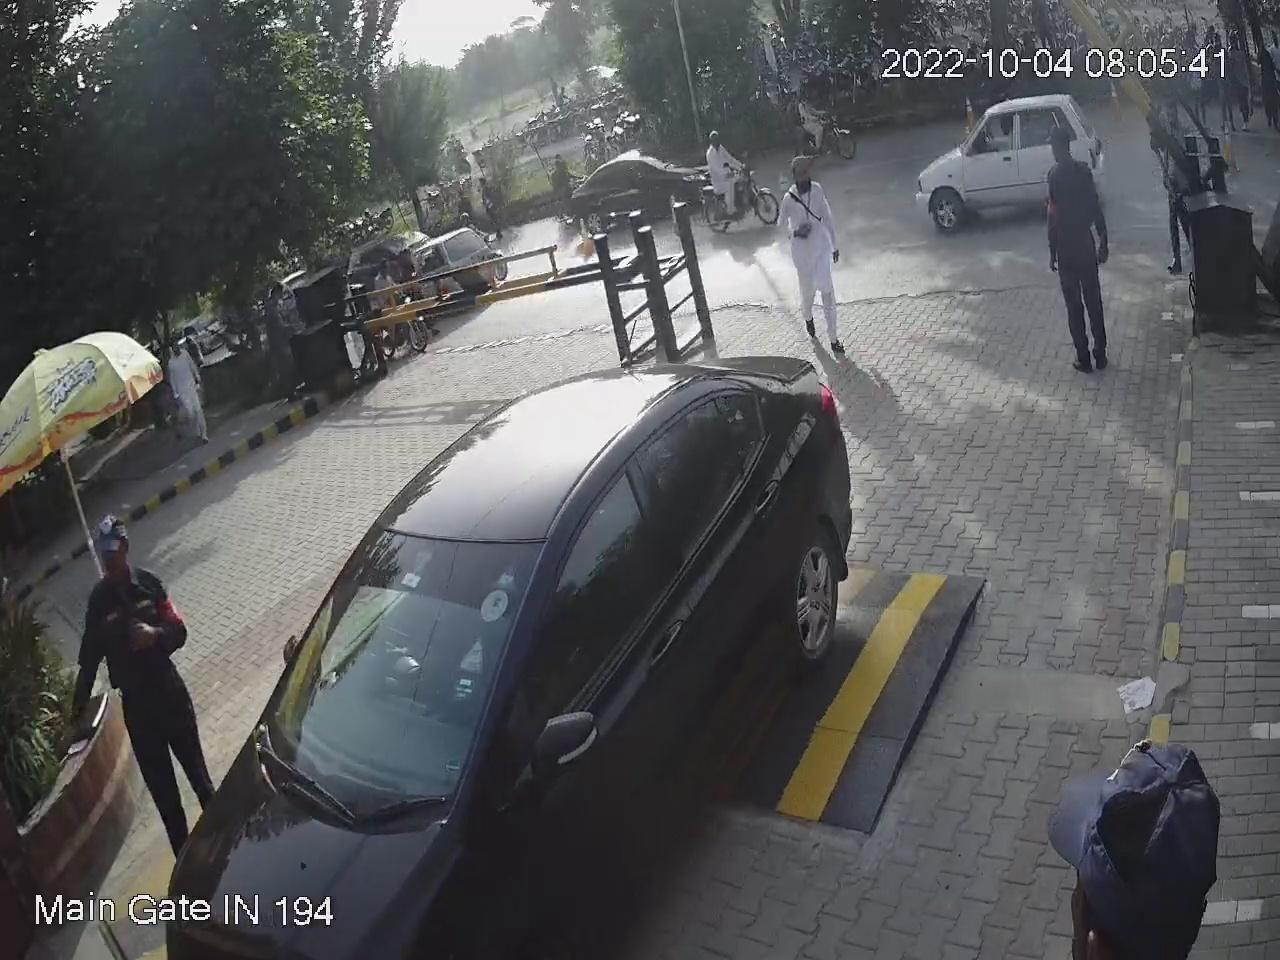windshield: (258, 515, 560, 818)
